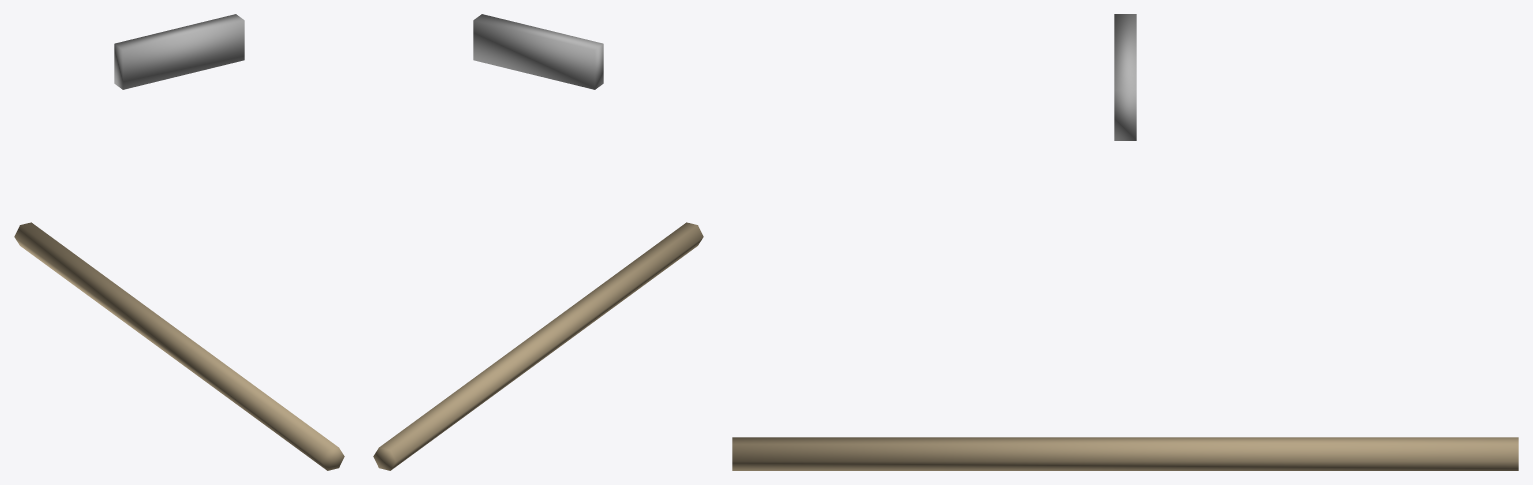
File: prop_hoe.glb
The picture shows the model from 3 angles, left to right: view 1: azimuth 30°, elevation 25°; view 2: azimuth 150°, elevation 25°; view 3: azimuth 270°, elevation 25°; orthographic projection. The views are drawn at different scales.
Parts seen in each view (by area): view 1: handle, blade; view 2: handle, blade; view 3: handle, blade.
Part boxes in pixels (left/top/right/bottom): handle: left=14, top=222, right=344, bottom=470; blade: left=114, top=14, right=244, bottom=89; handle: left=373, top=222, right=703, bottom=470; blade: left=473, top=14, right=603, bottom=89; handle: left=732, top=437, right=1518, bottom=470; blade: left=1114, top=14, right=1136, bottom=140.
Size of the model in its own units: 0.16 by 0.408 by 0.7.
